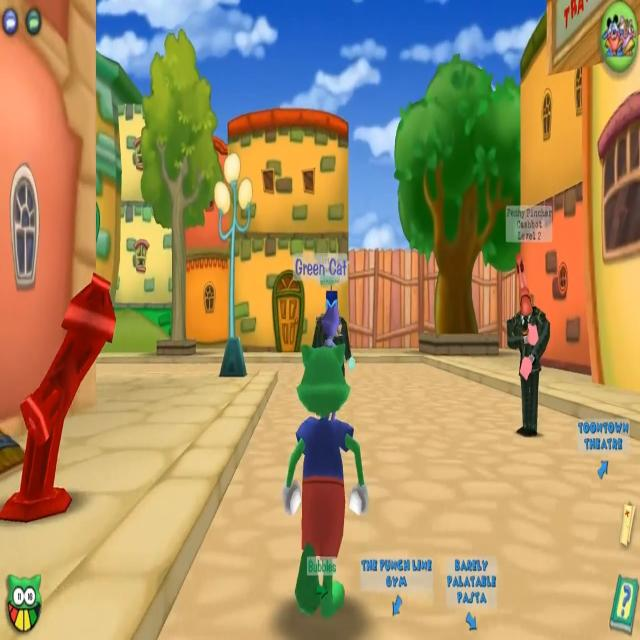pennypincher: (501, 196, 558, 440)
shortchange: (312, 252, 361, 391)
